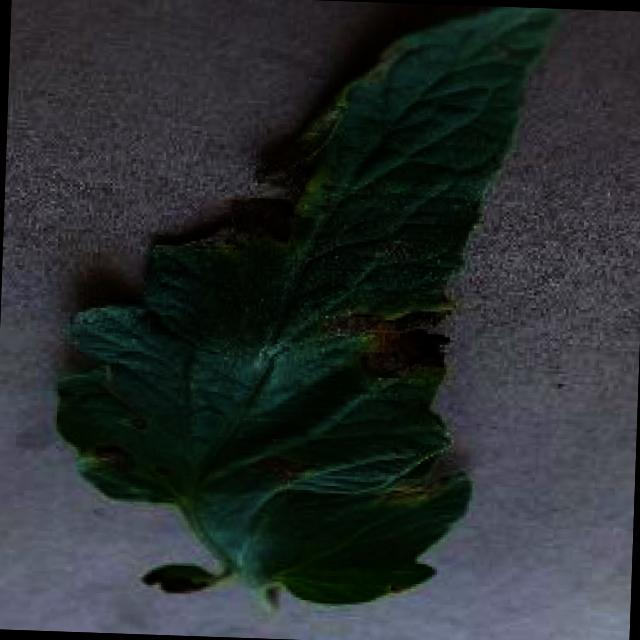Tomato Early blight leaf: (54, 0, 558, 611)
